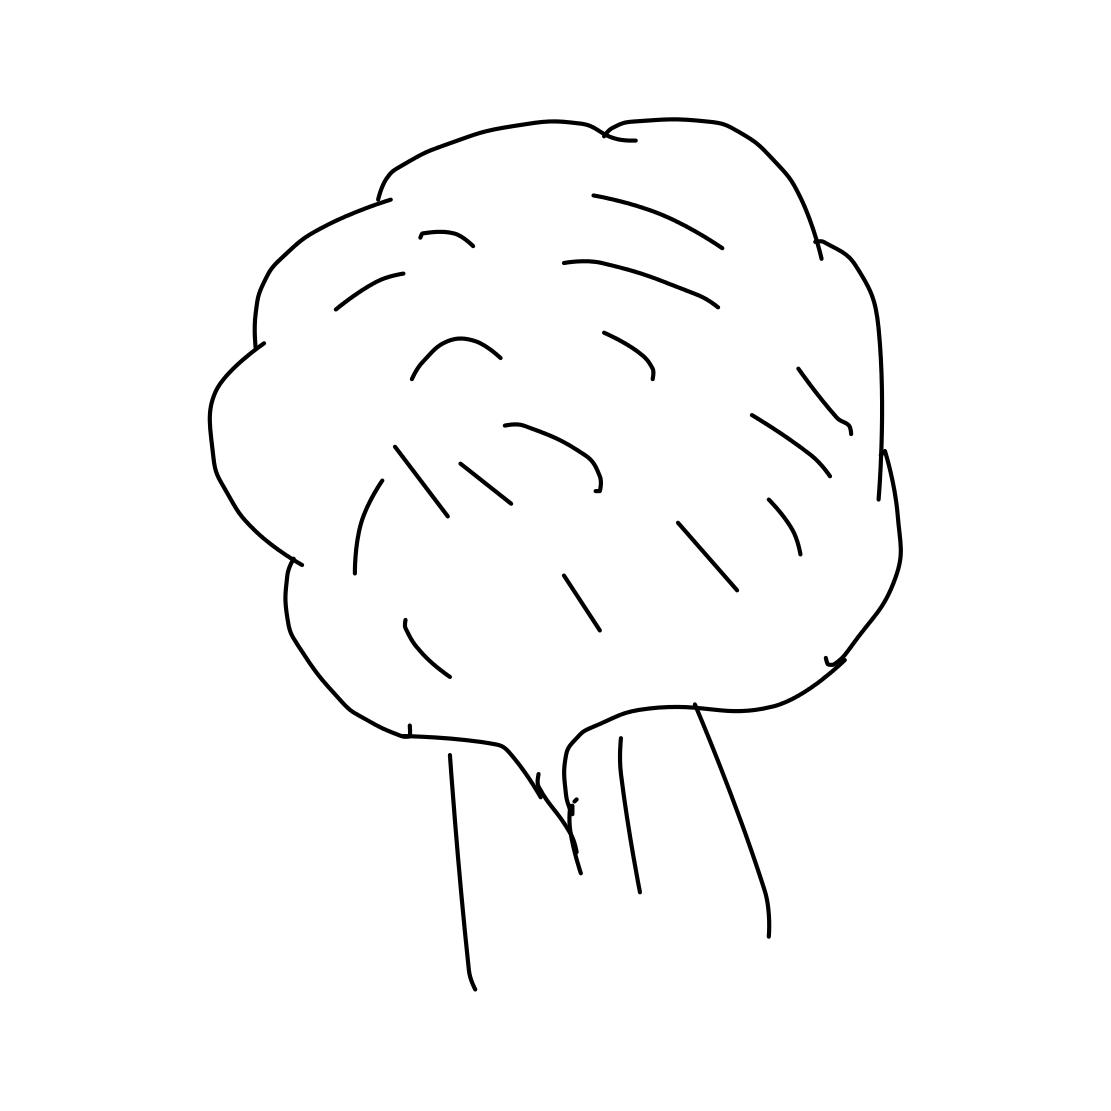Tree: (199, 89, 925, 992)
